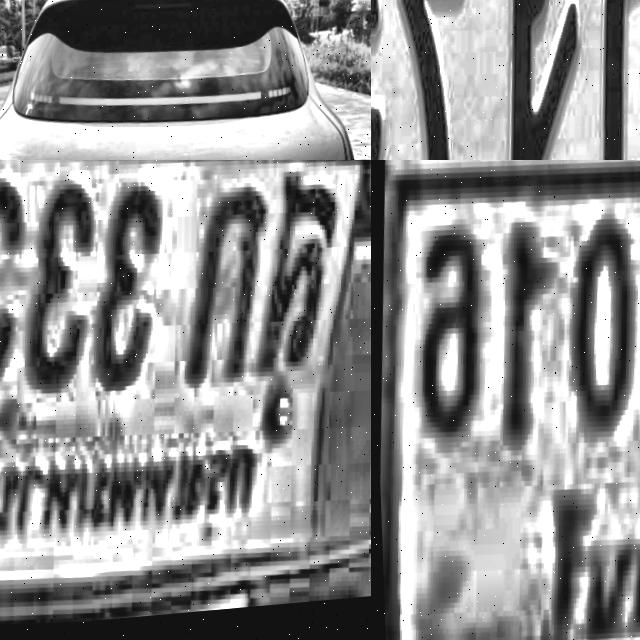license-plate: (0, 160, 371, 640), (371, 160, 640, 640), (371, 0, 640, 160)
